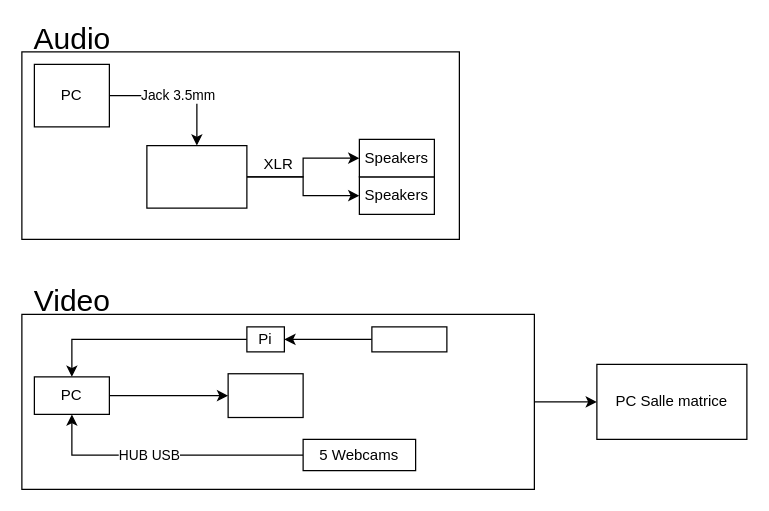
Image size: 769x511. Some labels were removed from this diagram. The shapes that lost their labels are listed below. From the top down, each one's centre as x and y in pixels, then its label:
At pixel 196 176: "Carte de son".
At pixel 409 339: "Kinect".
At pixel 265 395: "Projecteur".
